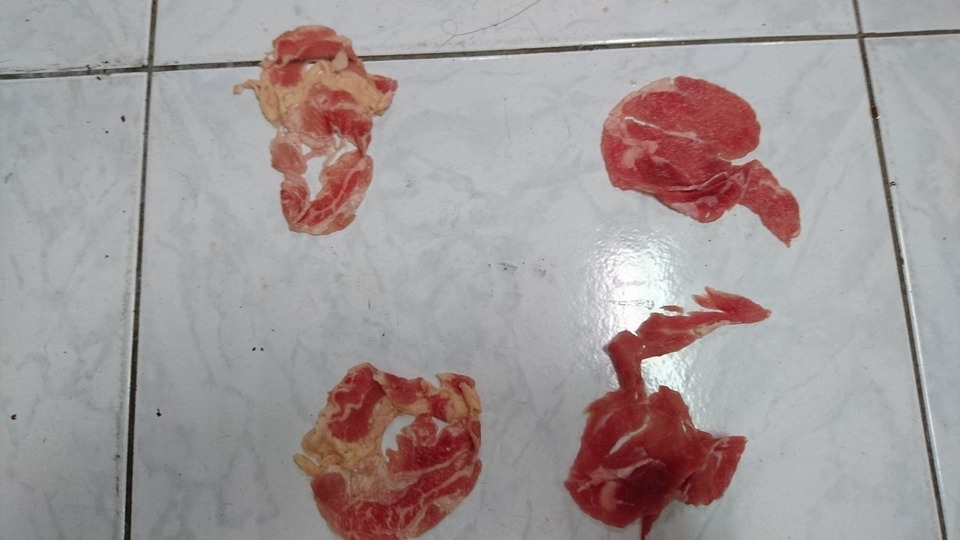restructured meat: (555, 291, 773, 522), (272, 332, 490, 539), (590, 62, 812, 245), (236, 6, 403, 240)
